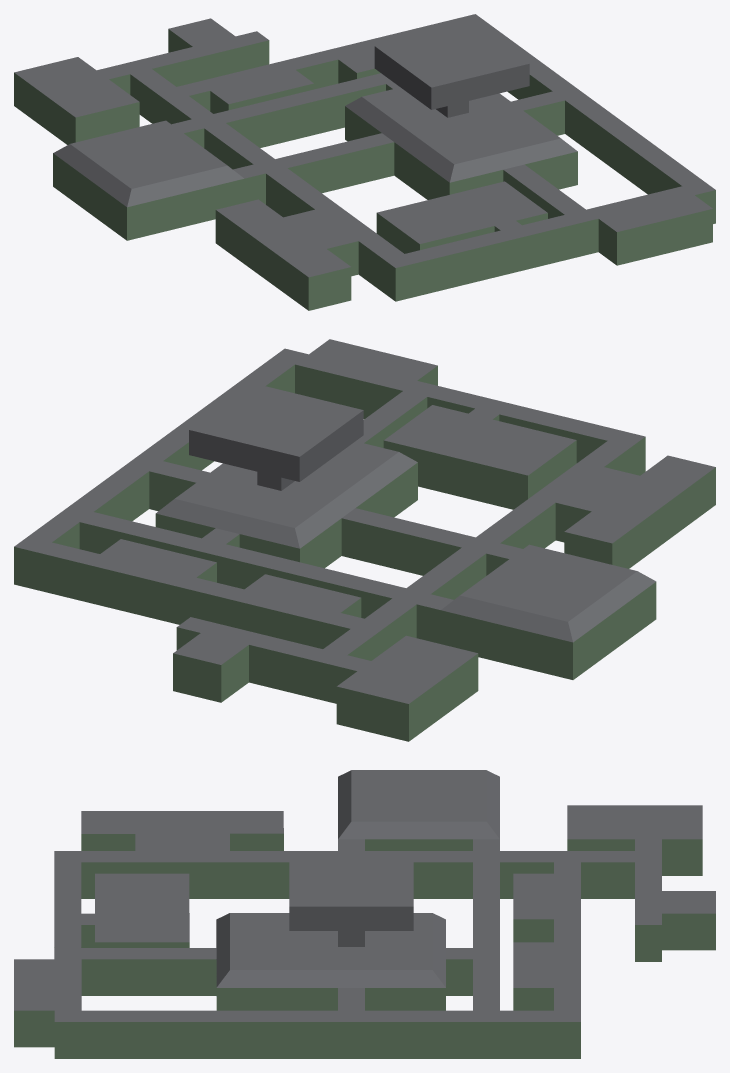
File: level.fbx
The picture shows the model from 3 angles, top to bottom: view 1: azimuth 30°, elevation 25°; view 2: azimuth 150°, elevation 25°; view 3: azimuth 270°, elevation 25°; orthographic projection. The views are drawn at different scales.
Visible parts, largest first — view 1: Cube; view 2: Cube; view 3: Cube.
Part boxes in pixels (x1,y1,x2,y2): Cube: [14, 14, 715, 310]; Cube: [14, 339, 715, 741]; Cube: [14, 770, 715, 1058].
Bounding box in the file's own units: 43.02 × 52 × 9.
